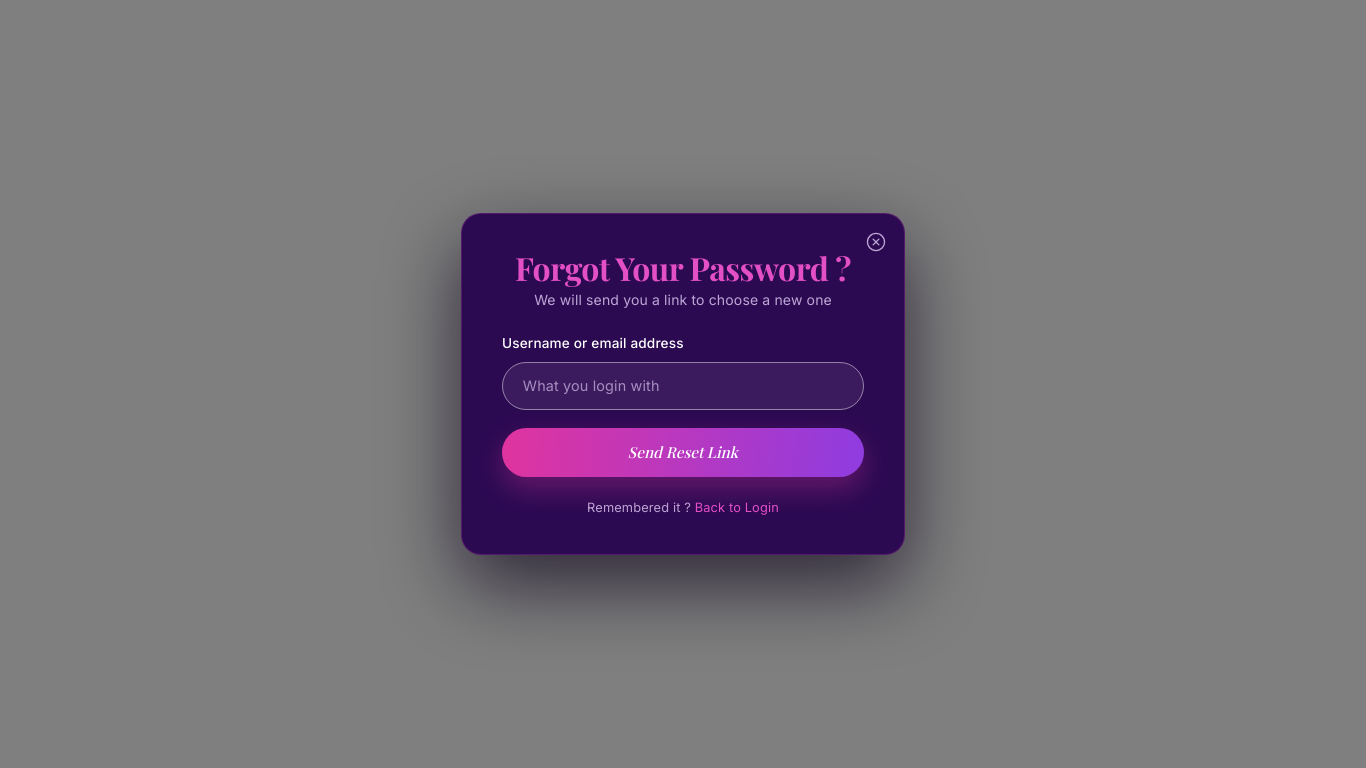
asking for a link › will not say whether the name matched an account
Step 1. Type "nobody" into the field labelled "Username or email address" → (683, 386), box [502,362,864,410]
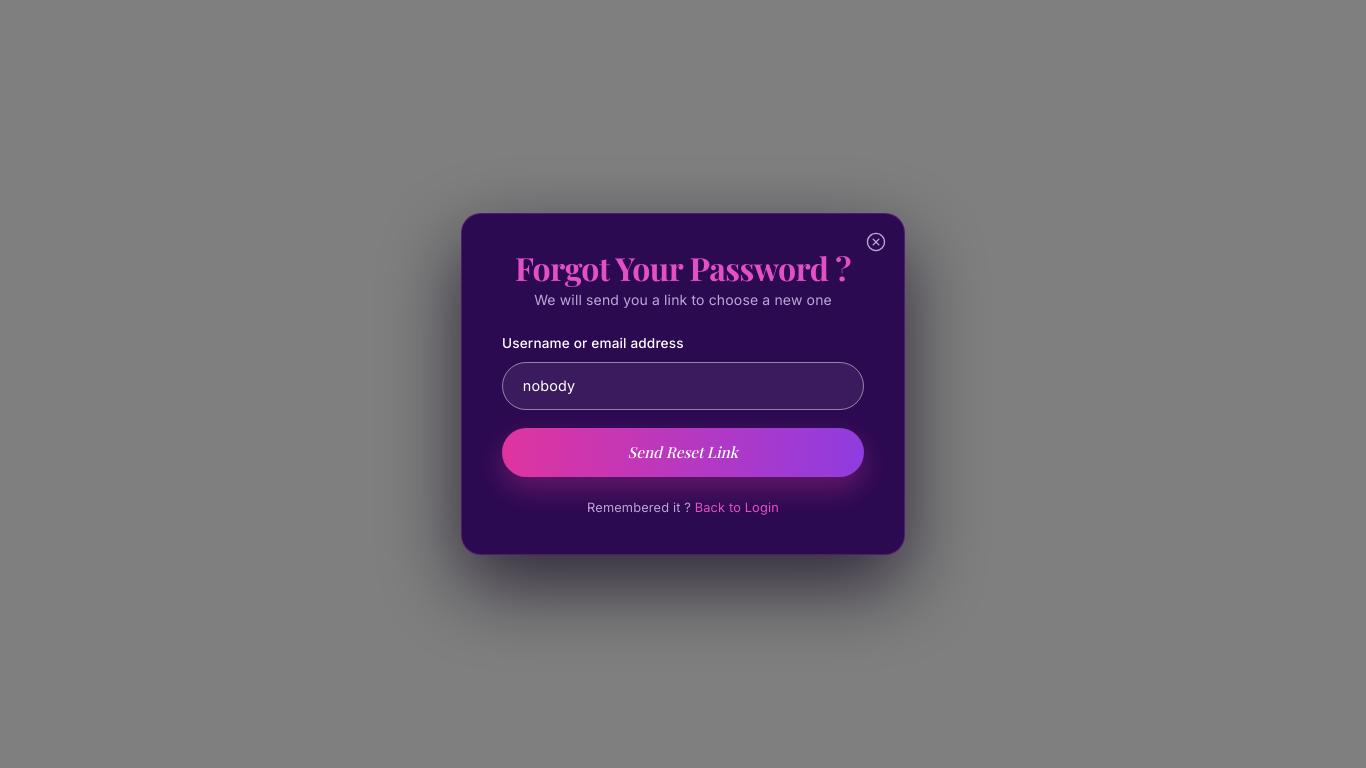
Step 2. Click the button "Send Reset Link" → (683, 452), box [502,428,864,477]
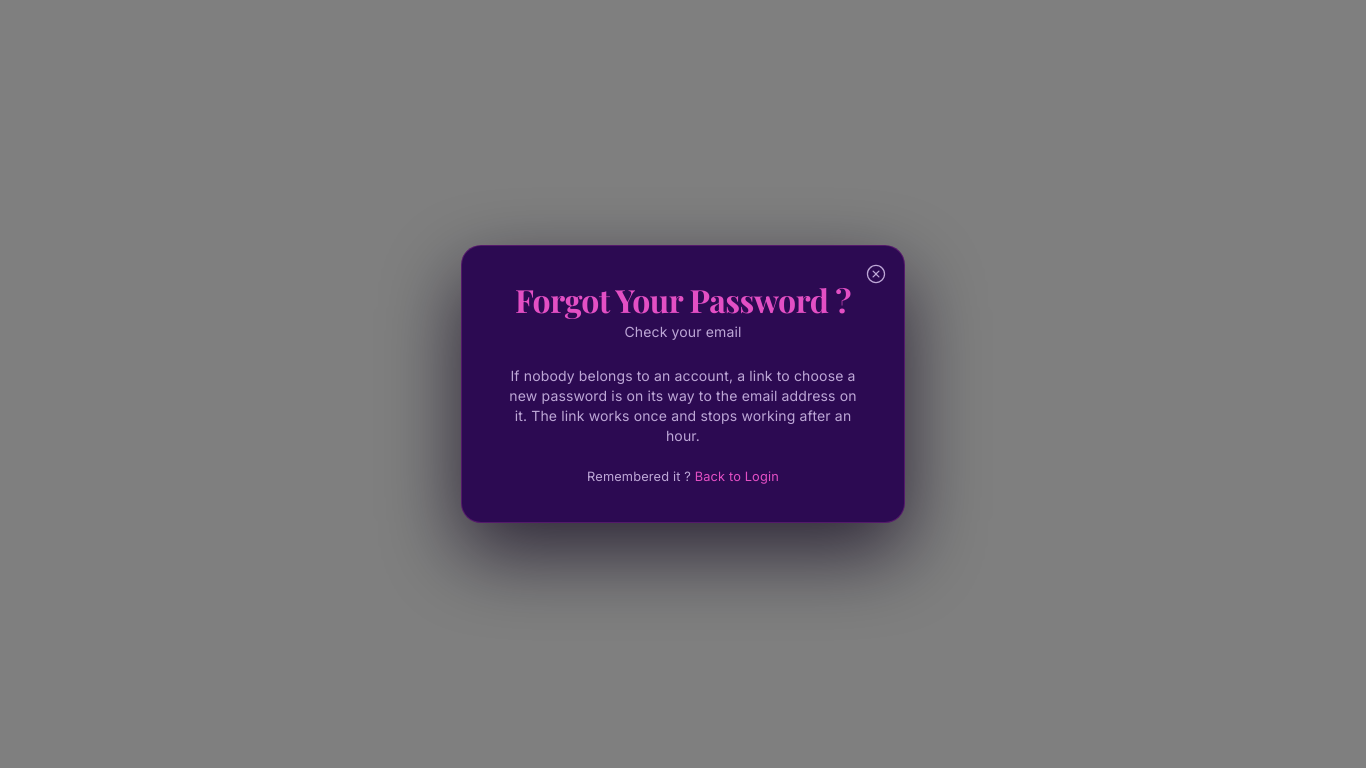
Expected: the text "If nobody belongs to an account" is shown, [502,366,864,446]
Expected: the label labelled "Username or email address" is gone
